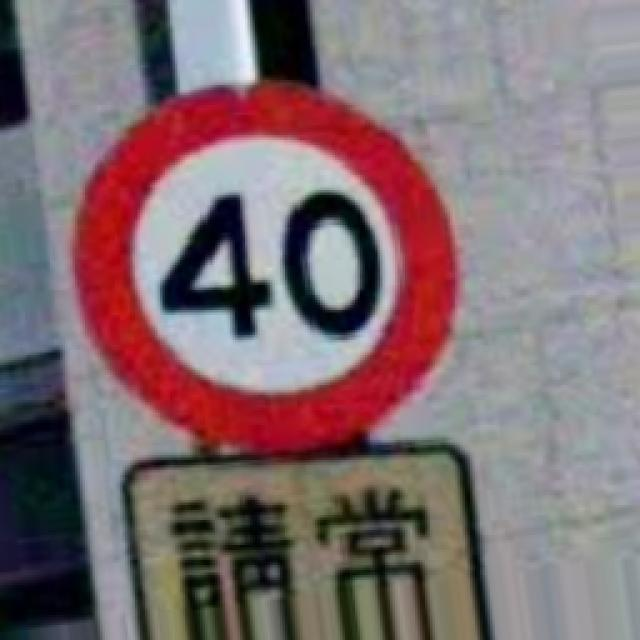Speed Limit -40-: (75, 85, 455, 450)
